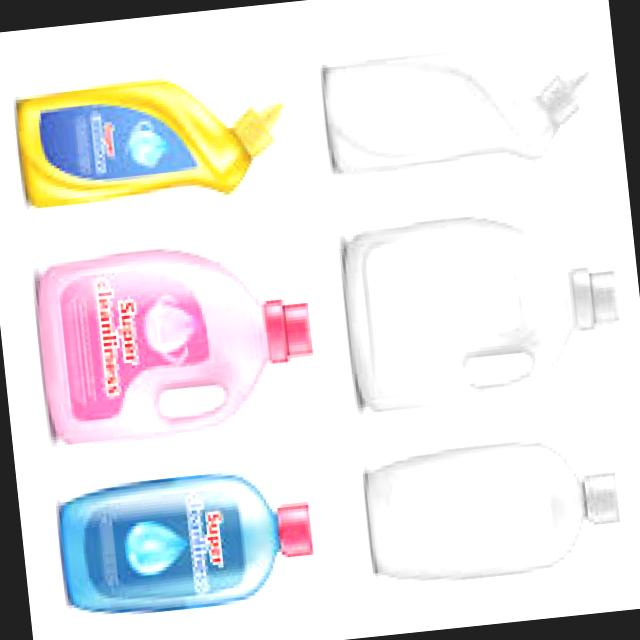bottle: (344, 218, 618, 412), (36, 251, 311, 444), (58, 476, 312, 613), (365, 444, 618, 581), (16, 81, 281, 207), (323, 49, 588, 175)
plastic: (277, 505, 312, 557)
